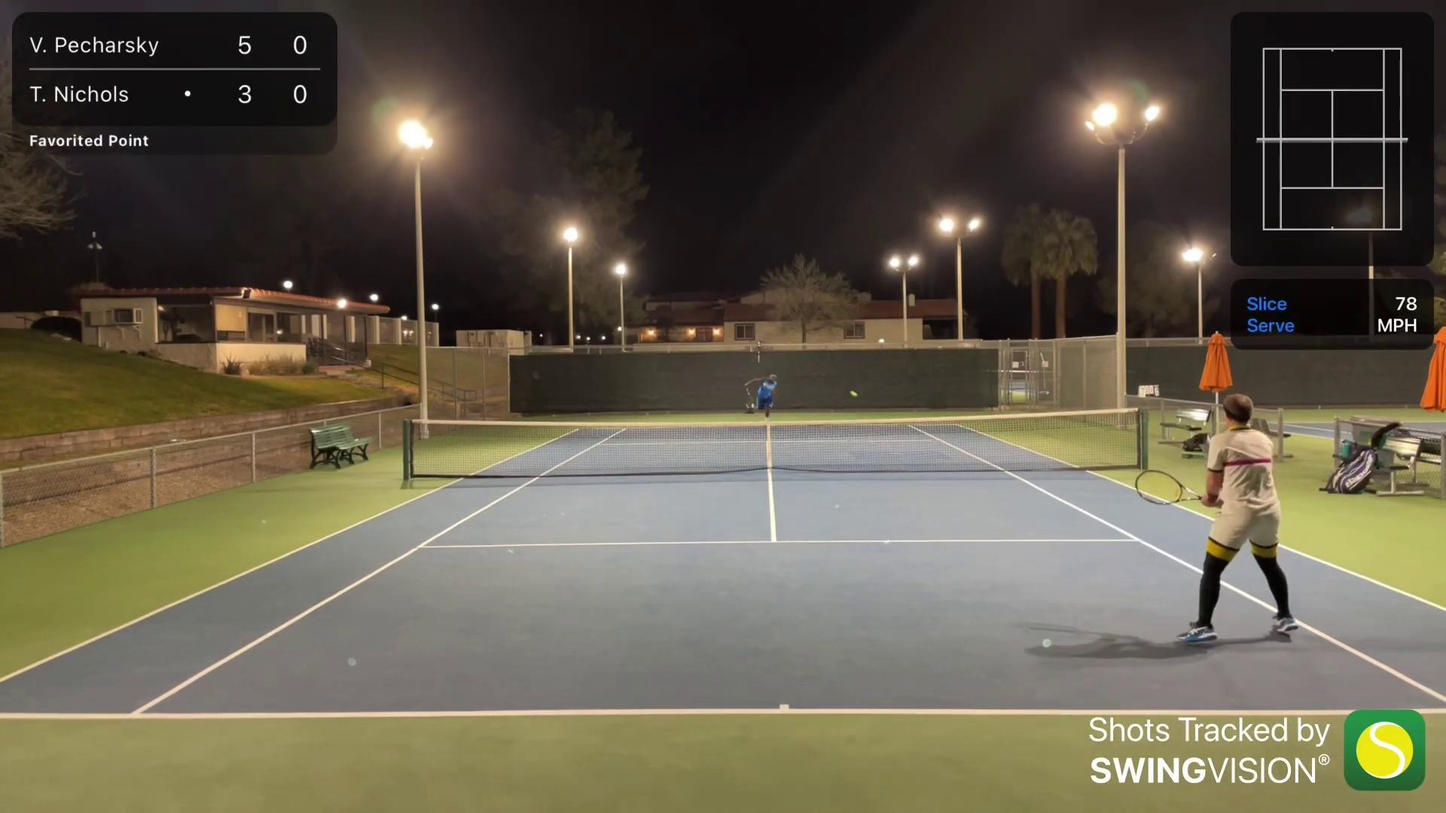ball: (852, 393, 860, 399)
